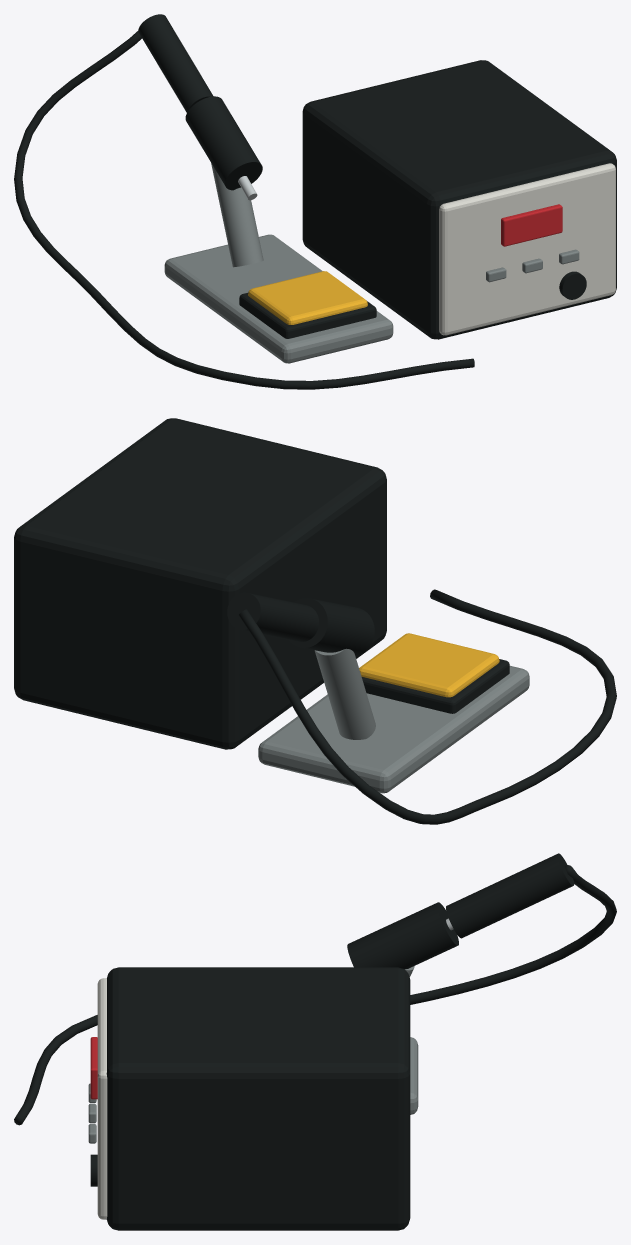
The model's file is lod0_source.glb.
3 views of the same model, one above another, from view 1: azimuth 30°, elevation 25°; view 2: azimuth 150°, elevation 25°; view 3: azimuth 270°, elevation 25° (orthographic). The views are drawn at different scales.
Visible parts, largest first — view 1: Controller black enclosure, Pale controller fascia, Independent iron stand base, Unconnected resting iron cable, Yellow cleaning sponge, Iron holder sleeve, Iron dark handle, Stand angled stem, Sponge recess, Unlit red display window, Lower socket outer ring; view 2: Controller black enclosure, Independent iron stand base, Unconnected resting iron cable, Yellow cleaning sponge, Stand angled stem, Iron dark handle, Iron holder sleeve, Sponge recess; view 3: Controller black enclosure, Iron dark handle, Iron holder sleeve, Unconnected resting iron cable, Pale controller fascia, Independent iron stand base.
Part boxes in pixels (<box>): Controller black enclosure: <box>302,60,616,339</box>; Pale controller fascia: <box>439,163,615,335</box>; Independent iron stand base: <box>164,234,393,363</box>; Unconnected resting iron cable: <box>14,31,474,389</box>; Yellow cleaning sponge: <box>248,271,367,324</box>; Iron holder sleeve: <box>185,96,262,190</box>; Iron dark handle: <box>138,14,213,112</box>; Stand angled stem: <box>211,163,263,267</box>; Sponge recess: <box>239,293,376,338</box>; Unlit red display window: <box>501,204,562,246</box>; Lower socket outer ring: <box>559,271,586,299</box>; Controller black enclosure: <box>14,418,386,749</box>; Independent iron stand base: <box>258,665,529,793</box>; Unconnected resting iron cable: <box>239,589,616,824</box>; Yellow cleaning sponge: <box>359,633,499,697</box>; Stand angled stem: <box>314,648,375,739</box>; Iron dark handle: <box>227,592,318,641</box>; Iron holder sleeve: <box>288,598,374,656</box>; Sponge recess: <box>361,659,509,713</box>; Controller black enclosure: <box>106,967,410,1230</box>; Iron dark handle: <box>446,853,574,938</box>; Iron holder sleeve: <box>347,902,458,969</box>; Unconnected resting iron cable: <box>14,865,616,1125</box>; Pale controller fascia: <box>97,978,107,1219</box>; Independent iron stand base: <box>410,1037,418,1114</box>.
Bounding box in the file's own units: 0.2683 × 0.1298 × 0.3019.
